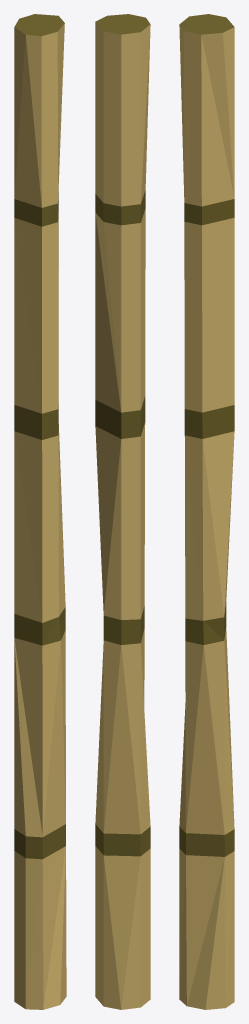
Rendered from sugarcane stalk.fbx.
3 views of the same model, side by side, from view 1: azimuth 30°, elevation 25°; view 2: azimuth 150°, elevation 25°; view 3: azimuth 330°, elevation 25° (orthographic).
Visible parts, largest first — view 1: Sugarcane_4; view 2: Sugarcane_4; view 3: Sugarcane_4.
Part boxes in pixels (x1,y1,x2,y2): Sugarcane_4: (14,14,66,1009); Sugarcane_4: (95,14,150,1009); Sugarcane_4: (179,14,234,1009).
Bounding box in the file's own units: 7.1 × 148 × 6.74.
